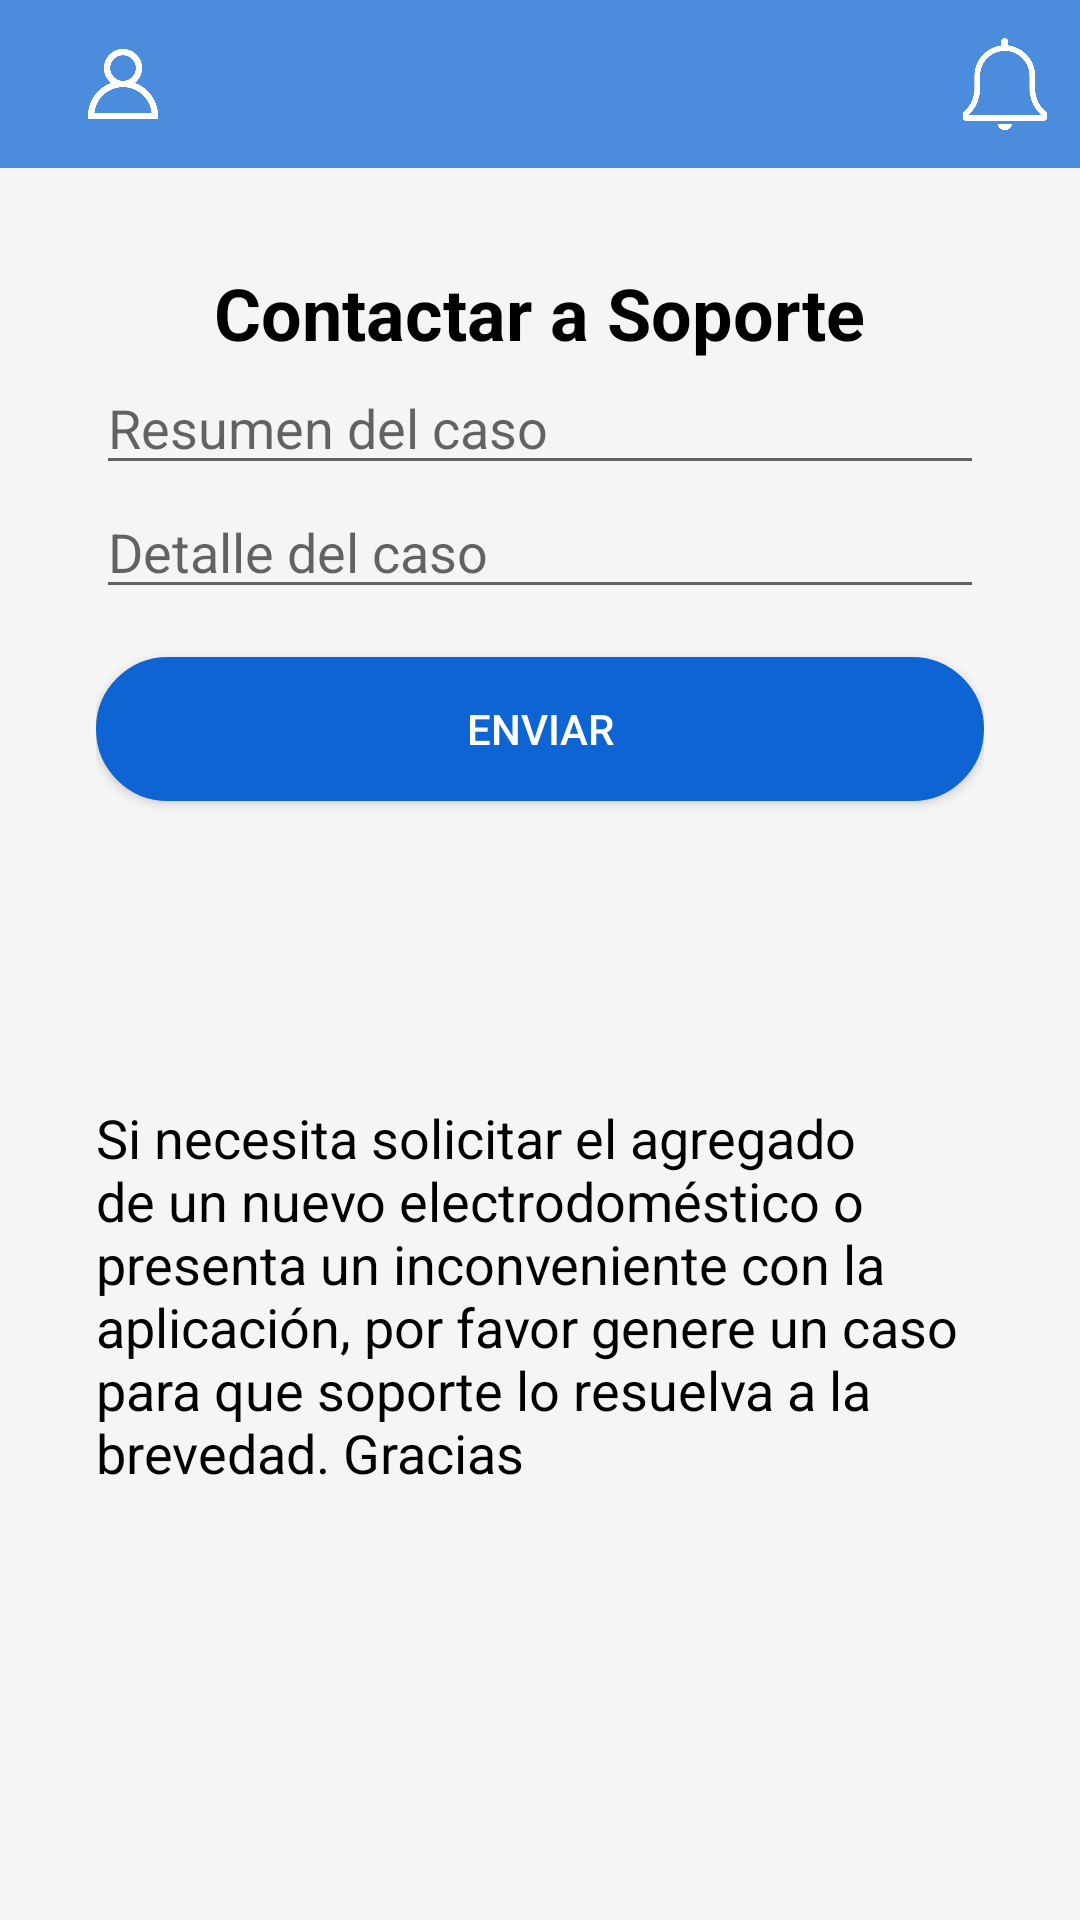

Icon click points for this 1080px x 1920px phone screenshot, format [x,y]:
Notification Icon: [1005,84]
User Icon: [123,84]
